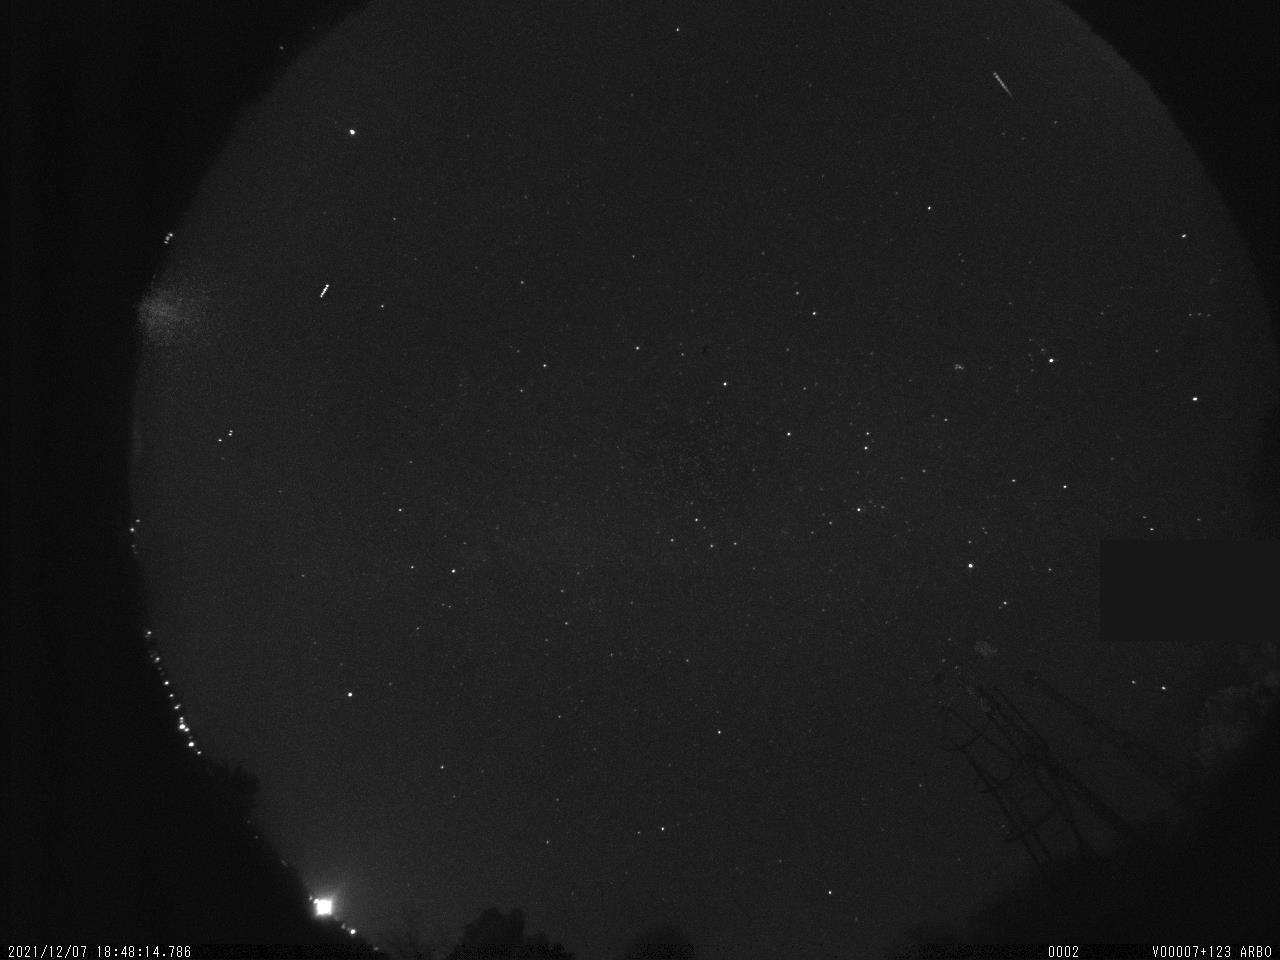meteor: (971, 55, 1043, 119)
